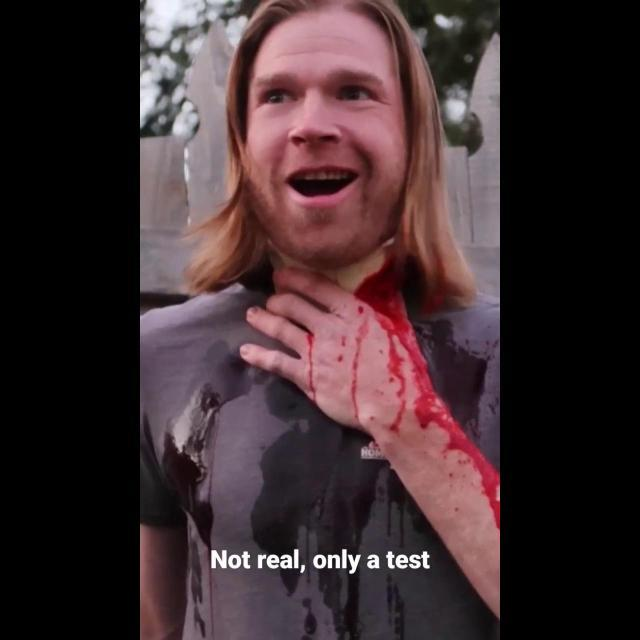blood: (354, 258, 500, 525), (414, 318, 487, 441), (358, 314, 414, 461), (344, 324, 366, 429), (291, 332, 319, 407), (356, 306, 364, 320)
